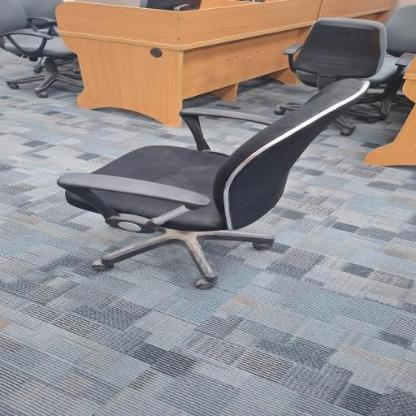chair: (51, 72, 376, 292), (280, 12, 414, 135)
